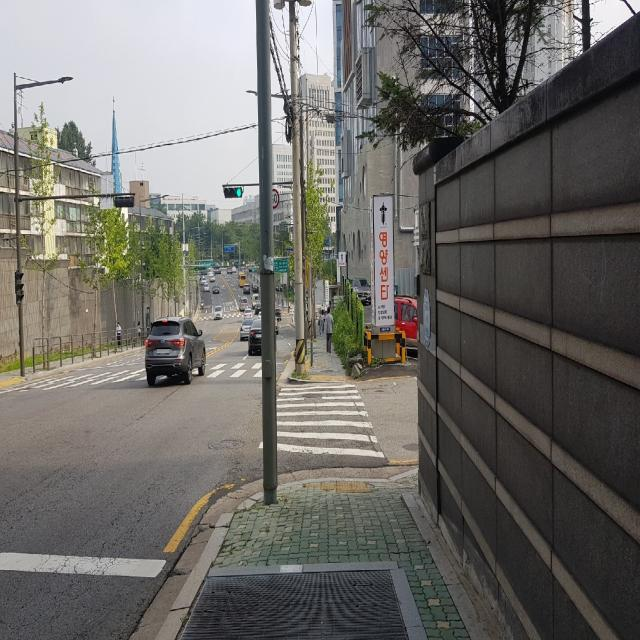횡단보도: (258, 383, 385, 459), (11, 357, 268, 388)
